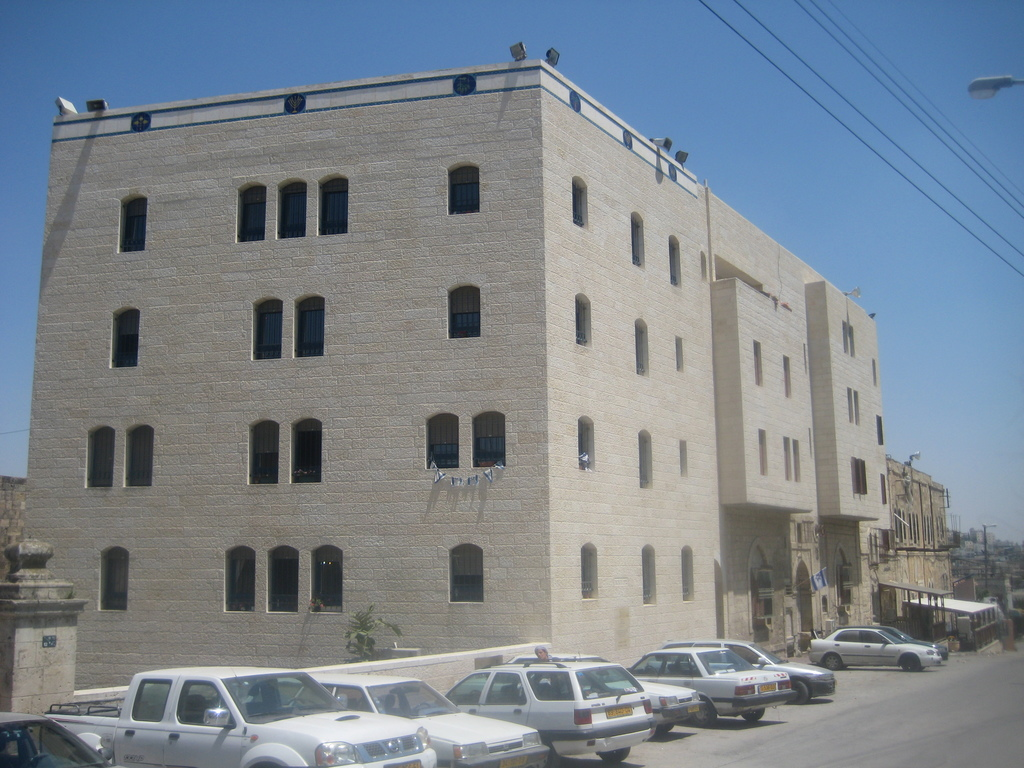Car: (0, 634, 842, 767), (805, 626, 940, 675), (858, 620, 946, 658)
